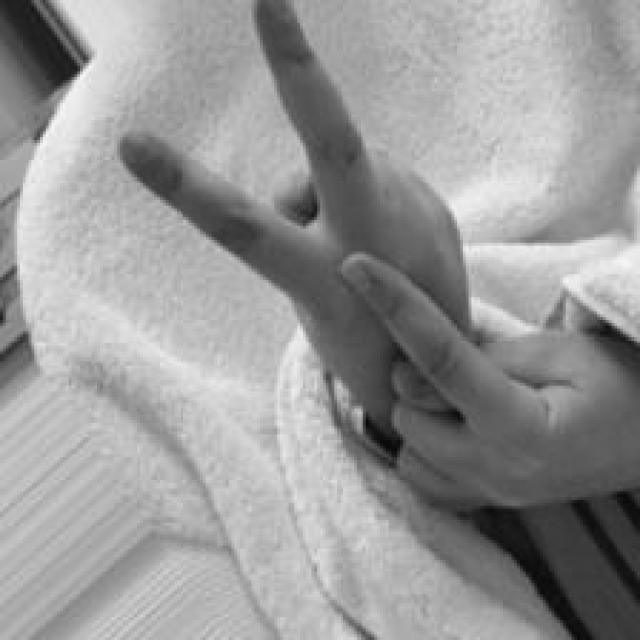Y: (115, 0, 640, 508)
